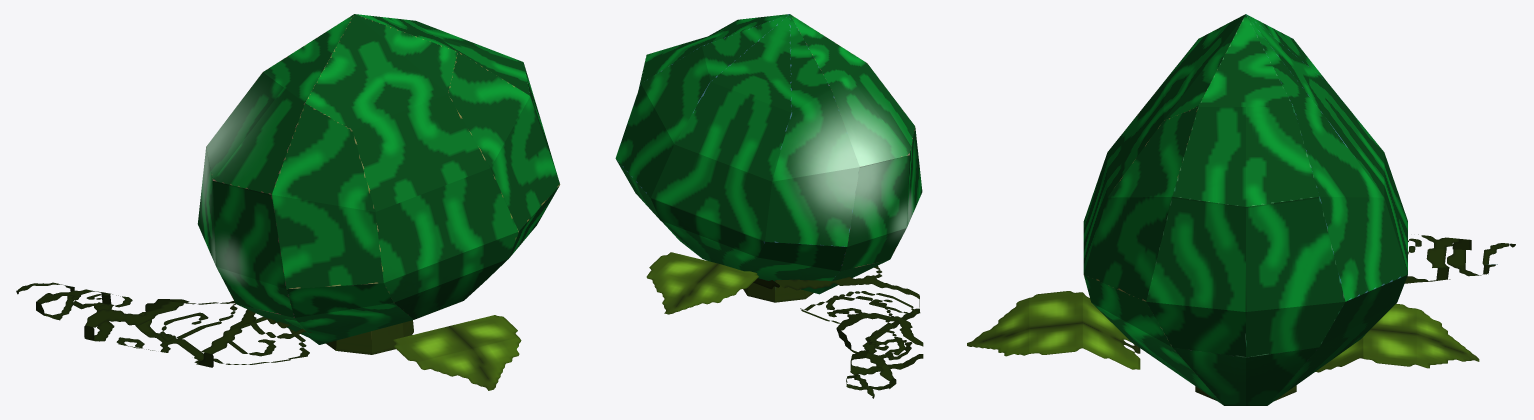
File: Spade Melon Stage 3.fbx
3 views of the same model, side by side, from view 1: azimuth 30°, elevation 25°; view 2: azimuth 150°, elevation 25°; view 3: azimuth 270°, elevation 25° (orthographic). The views are drawn at different scales.
Parts seen in each view (by area): view 1: MelonStage3; view 2: MelonStage3; view 3: MelonStage3.
Boxes of the visible parts, x1,y1,x2,y2 form: MelonStage3: [16, 14, 560, 390]; MelonStage3: [615, 14, 923, 398]; MelonStage3: [967, 14, 1515, 405].
Size of the model in its own units: 64.81 by 49.97 by 68.17.
1 material, 1 textured.
